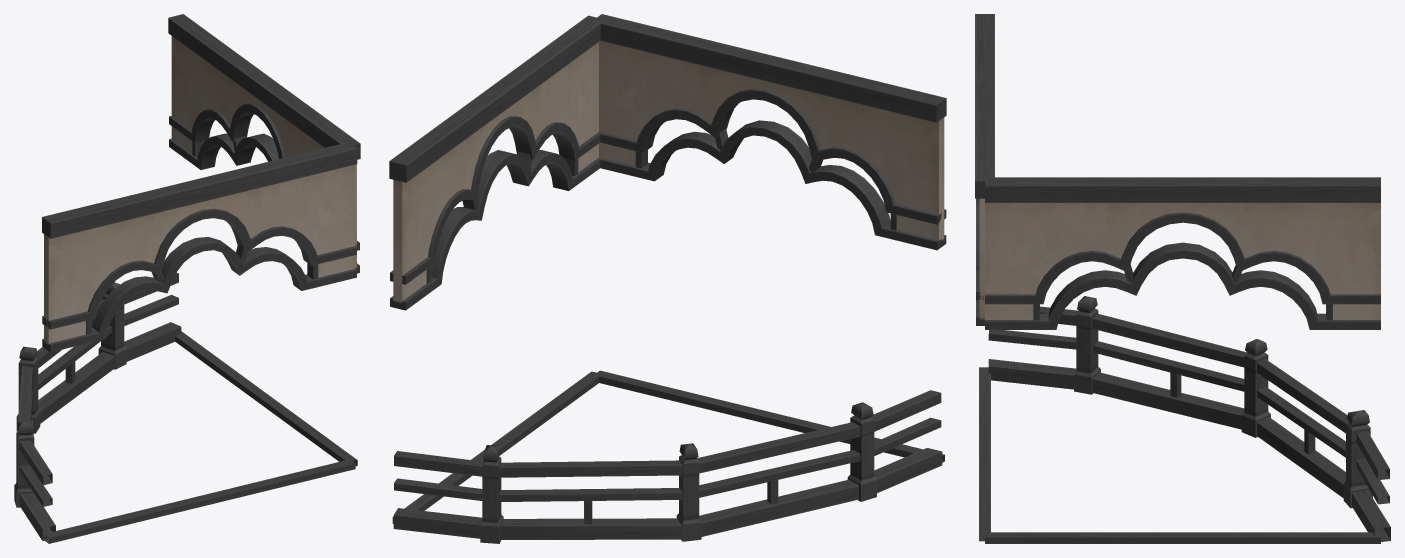
File: Homeworld_Interior_Dq_Room_Wall_05_01_Vo.fbx
3 renders of one model, left to right at view 1: azimuth 30°, elevation 25°; view 2: azimuth 150°, elevation 25°; view 3: azimuth 270°, elevation 25°, orthographic. The views are drawn at different scales.
Visible parts, largest first — view 1: Homeworld_Interior_Dq_Room_Wall_05_01_Vo; view 2: Homeworld_Interior_Dq_Room_Wall_05_01_Vo; view 3: Homeworld_Interior_Dq_Room_Wall_05_01_Vo.
Boxes of the visible parts, x1,y1,x2,y2 form: Homeworld_Interior_Dq_Room_Wall_05_01_Vo: (14, 14, 360, 543); Homeworld_Interior_Dq_Room_Wall_05_01_Vo: (389, 14, 946, 543); Homeworld_Interior_Dq_Room_Wall_05_01_Vo: (975, 14, 1390, 543).
Bounding box in the file's own units: 5.16 × 5.03 × 5.25.
